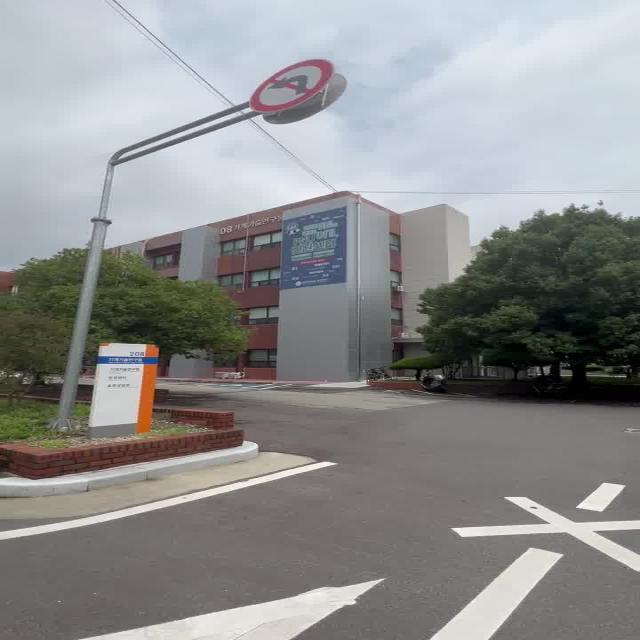building: (195, 198, 393, 371)
